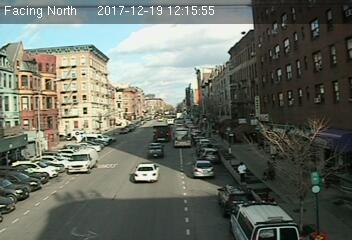car: (218, 181, 251, 214), (133, 160, 158, 182), (191, 158, 215, 178), (198, 147, 220, 162), (145, 143, 162, 159)
pedestrian: (237, 162, 247, 183)
police: (229, 199, 310, 240)
truck: (68, 149, 100, 173), (174, 127, 191, 146)
ups: (152, 123, 171, 141)
